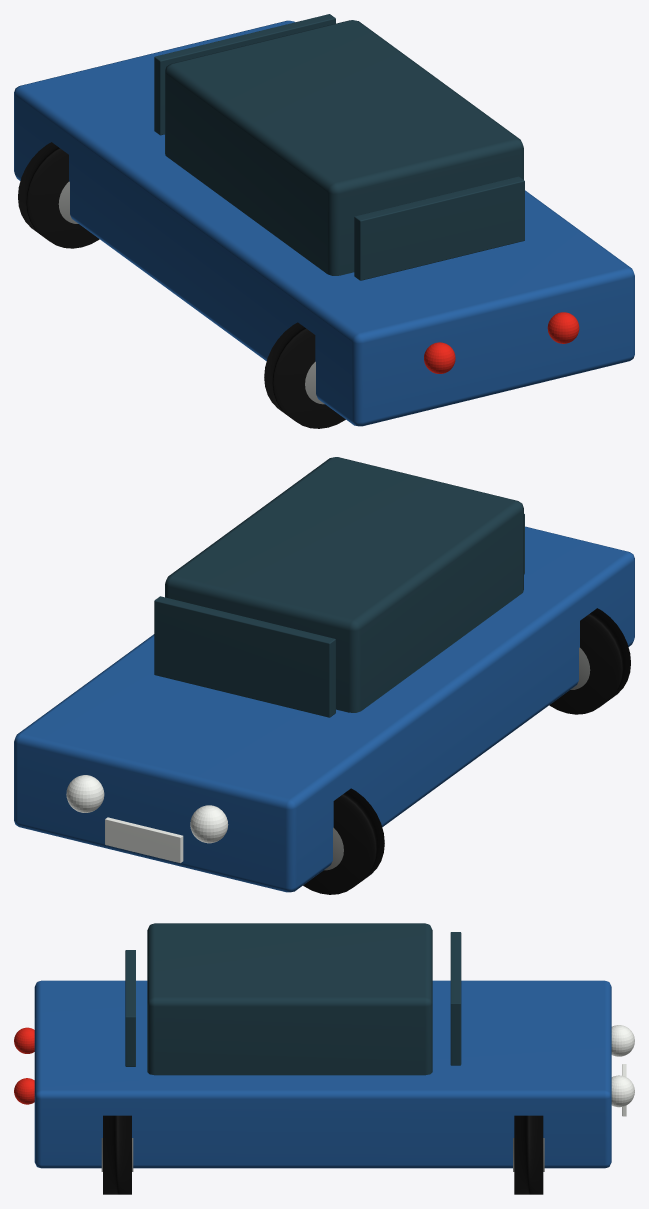
File: sedan_photoreal_proxy.fbx
3 renders of one model, top to bottom at view 1: azimuth 30°, elevation 25°; view 2: azimuth 150°, elevation 25°; view 3: azimuth 270°, elevation 25°, orthographic. The views are drawn at different scales.
Visible parts, largest first — view 1: sedan_lower_body, sedan_upper_cabin, sedan_rear_windshield, sedan_tire, sedan_tire.001, sedan_front_windshield, sedan_tail_light.001, sedan_tail_light; view 2: sedan_lower_body, sedan_upper_cabin, sedan_front_windshield, sedan_tire.001, sedan_tire, sedan_license_plate, sedan_headlight, sedan_headlight.001; view 3: sedan_lower_body, sedan_upper_cabin, sedan_tire.003, sedan_tire.002, sedan_front_windshield, sedan_rear_windshield, sedan_headlight.001, sedan_headlight, sedan_tail_light.001, sedan_tail_light.
Part boxes in pixels (x1,y1,x2,y2): sedan_lower_body: (14, 20, 634, 426); sedan_upper_cabin: (165, 20, 523, 275); sedan_rear_windshield: (354, 176, 524, 280); sedan_tire: (264, 322, 345, 428); sedan_tire.001: (18, 142, 99, 248); sedan_front_windshield: (154, 14, 335, 135); sedan_tail_light.001: (547, 312, 579, 343); sedan_tail_light: (424, 342, 455, 373); sedan_lower_body: (14, 526, 634, 892); sedan_upper_cabin: (165, 457, 523, 712); sedan_front_windshield: (154, 596, 335, 717); sedan_tire.001: (303, 788, 384, 894); sedan_tire: (549, 608, 630, 714); sedan_license_plate: (105, 817, 183, 863); sedan_headlight: (190, 805, 228, 843); sedan_headlight.001: (66, 775, 104, 812); sedan_lower_body: (34, 980, 611, 1168); sedan_upper_cabin: (147, 923, 432, 1075); sedan_tire.003: (514, 1115, 543, 1194); sedan_tire.002: (103, 1115, 131, 1194); sedan_front_windshield: (450, 932, 461, 1065); sedan_rear_windshield: (125, 950, 135, 1066); sedan_headlight.001: (611, 1075, 634, 1107); sedan_headlight: (611, 1025, 634, 1056); sedan_tail_light.001: (14, 1078, 34, 1104); sedan_tail_light: (14, 1027, 34, 1053).
Bounding box in the file's own units: 254 × 148 × 468.
